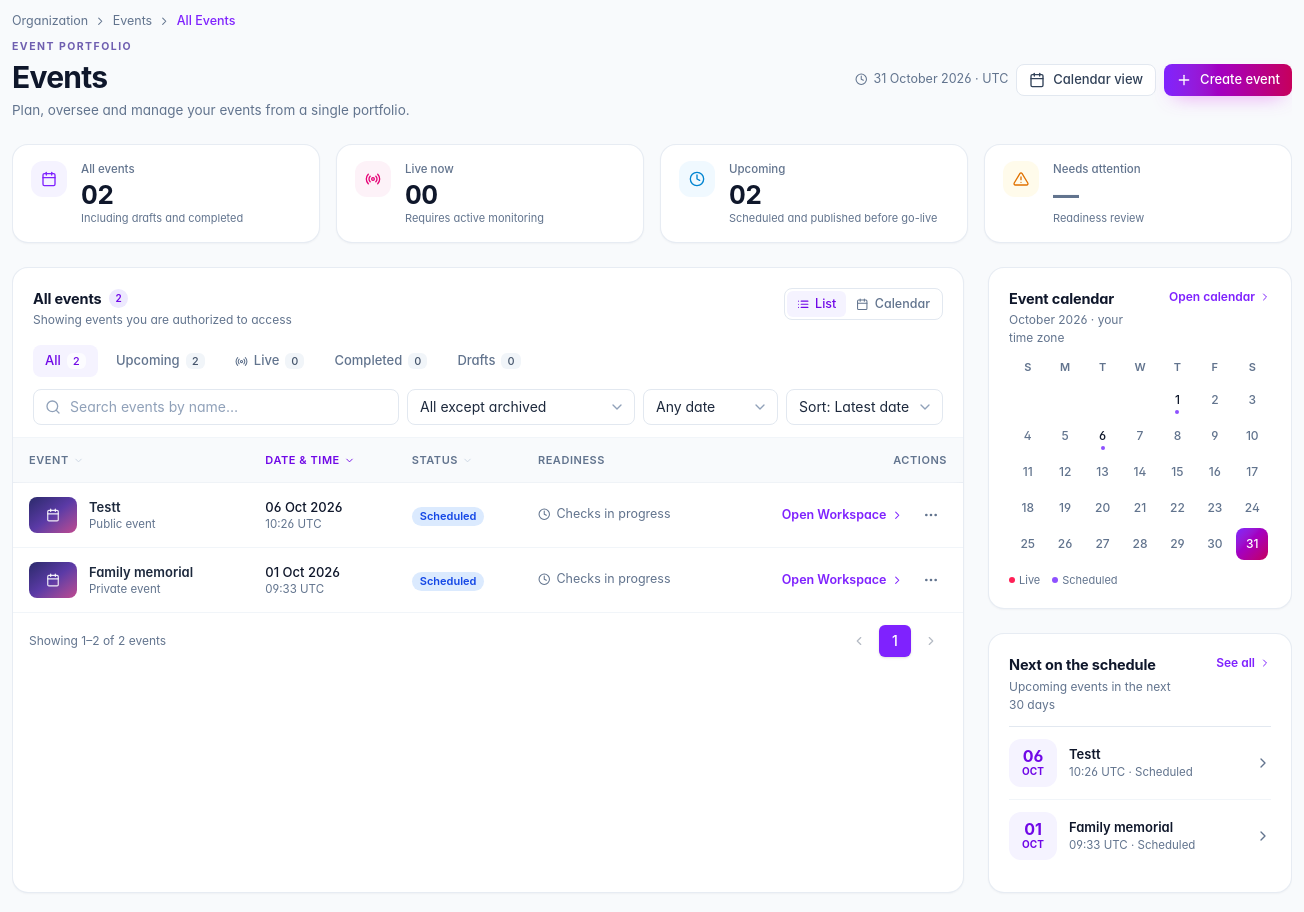
the Events table columns › puts Open Workspace and the row's overflow menu under Actions, and the time under Date & time
Expected: the button "Testt" is shown, top-left (89, 498), bottom-right (120, 516)
Click the button named "More actions for Testt" at (931, 515), box top-left (915, 499), bottom-right (947, 531)
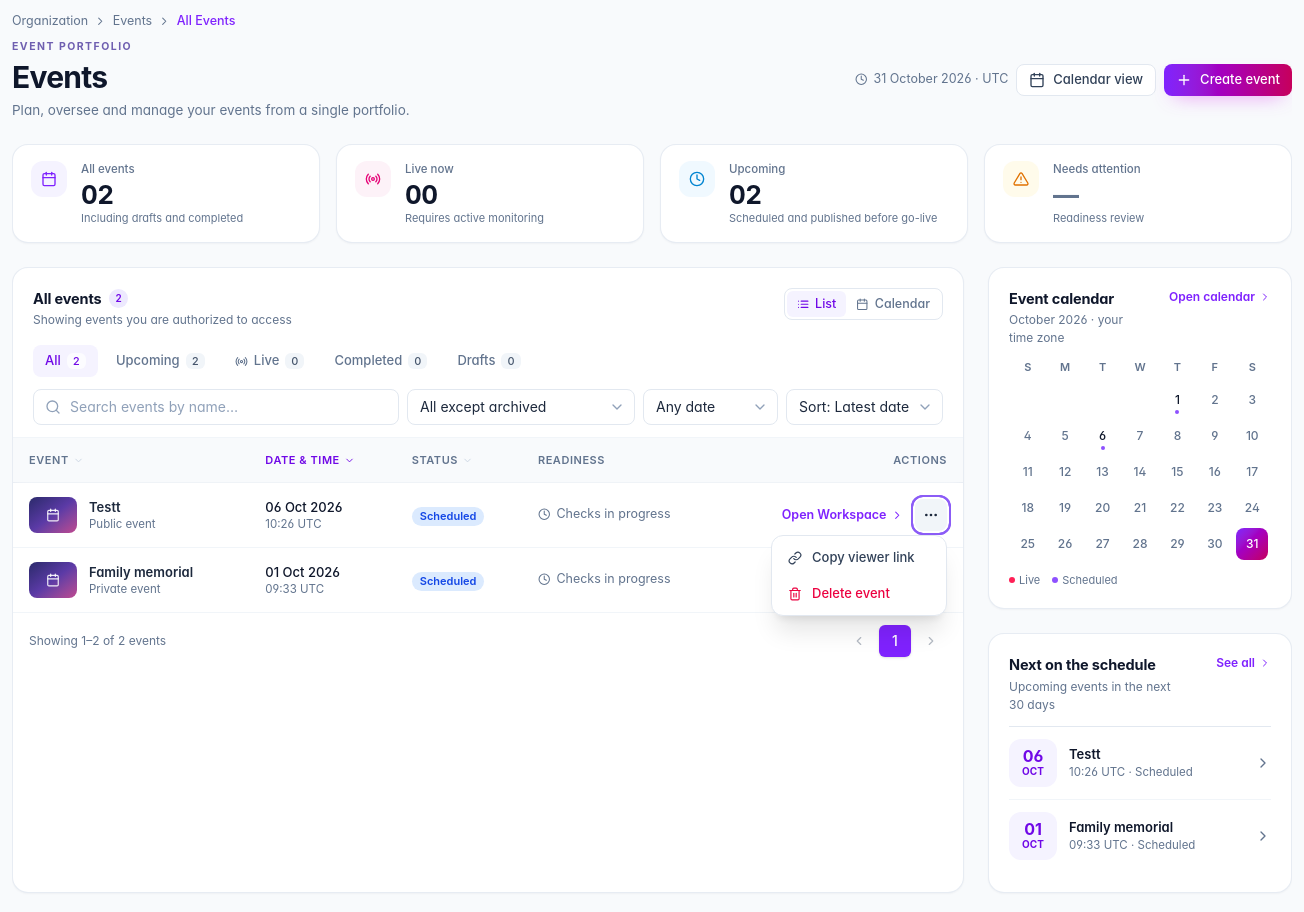
Now the menu items read "Copy viewer link", "Delete event", in this order, box top-left (776, 540), bottom-right (942, 576); top-left (776, 576), bottom-right (942, 611)
